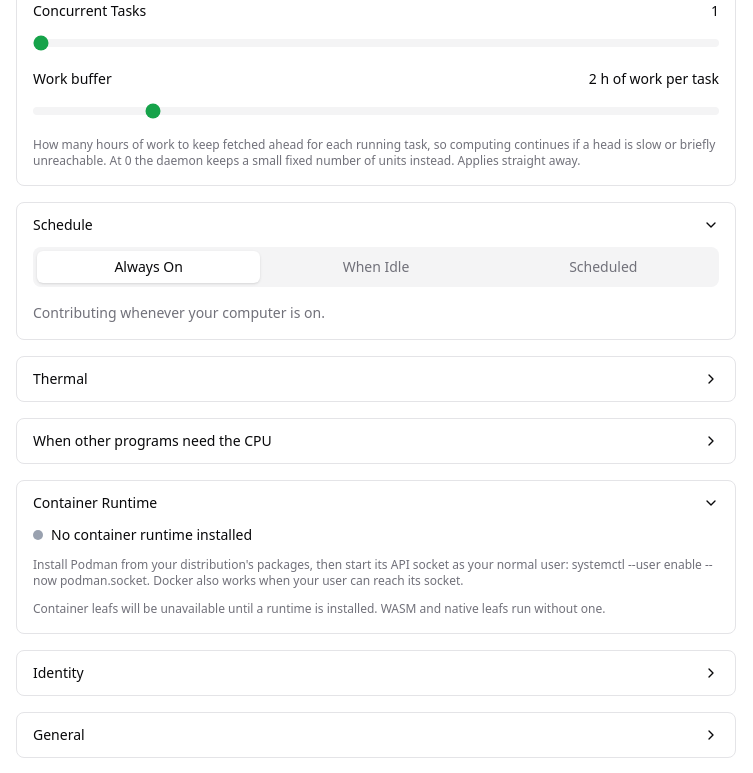
Test: SettingsPage › says when the CPU temperature cannot be read and disables the CPU thresholds (TB-77)
(page scrolled)
Click the button "Thermal" at (60, 378), box x1=17 y1=357 x2=735 y2=401
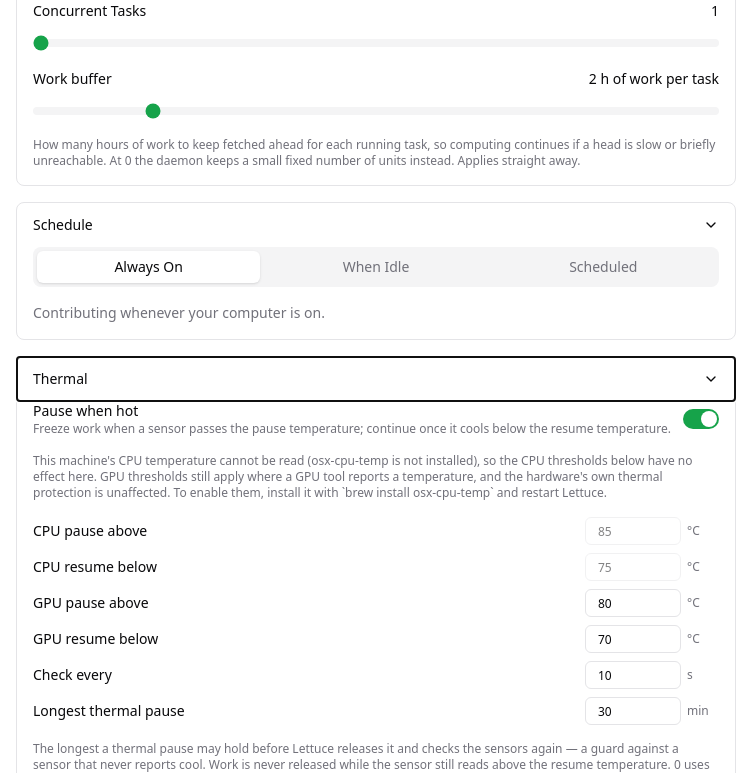
Expected: the text with test id "thermal-cpu-unreadable" shows "CPU temperature cannot be read", x1=33 y1=452 x2=304 y2=469
Expected: the text with test id "thermal-cpu-unreadable" shows "osx-cpu-temp is not installed", x1=304 y1=452 x2=477 y2=469
Expected: the text with test id "thermal-cpu-unreadable" shows "have no effect here", x1=33 y1=452 x2=692 y2=501
